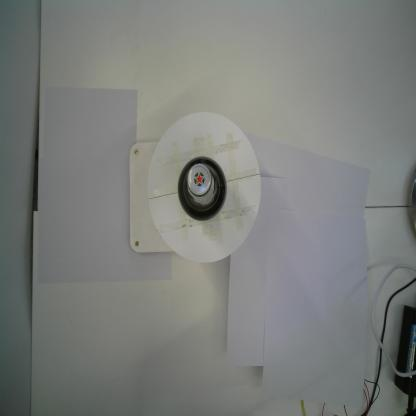Alcohol: (175, 154, 229, 226)
